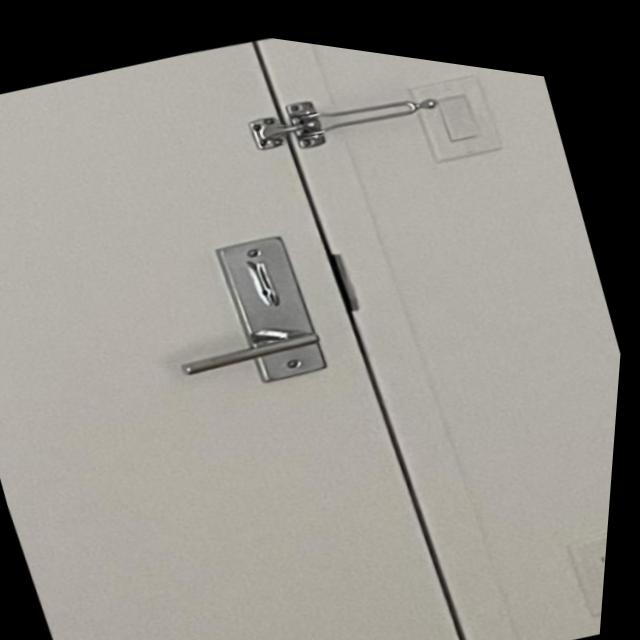door_handle: (154, 264, 358, 415)
